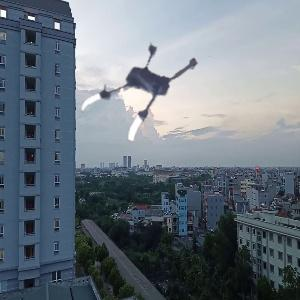drone: (81, 31, 208, 158)
